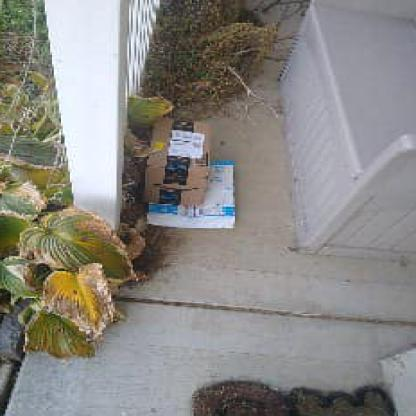box: (143, 115, 211, 209)
plastic_bag: (144, 158, 239, 229)
